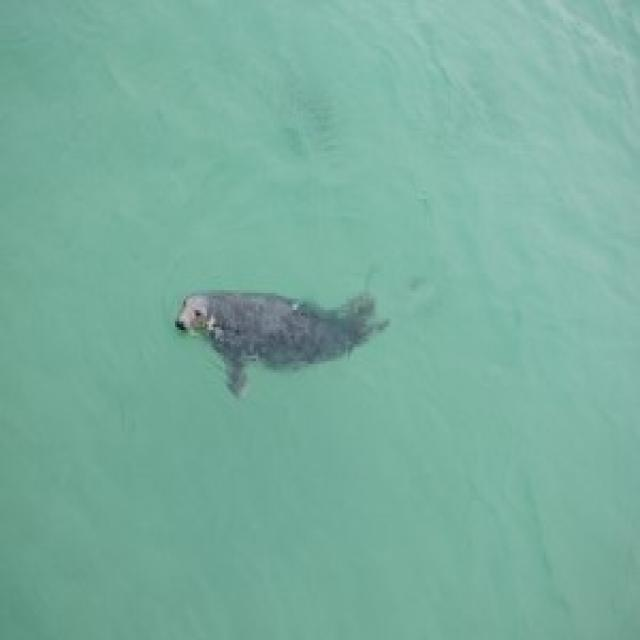Seal: (169, 261, 394, 392)
